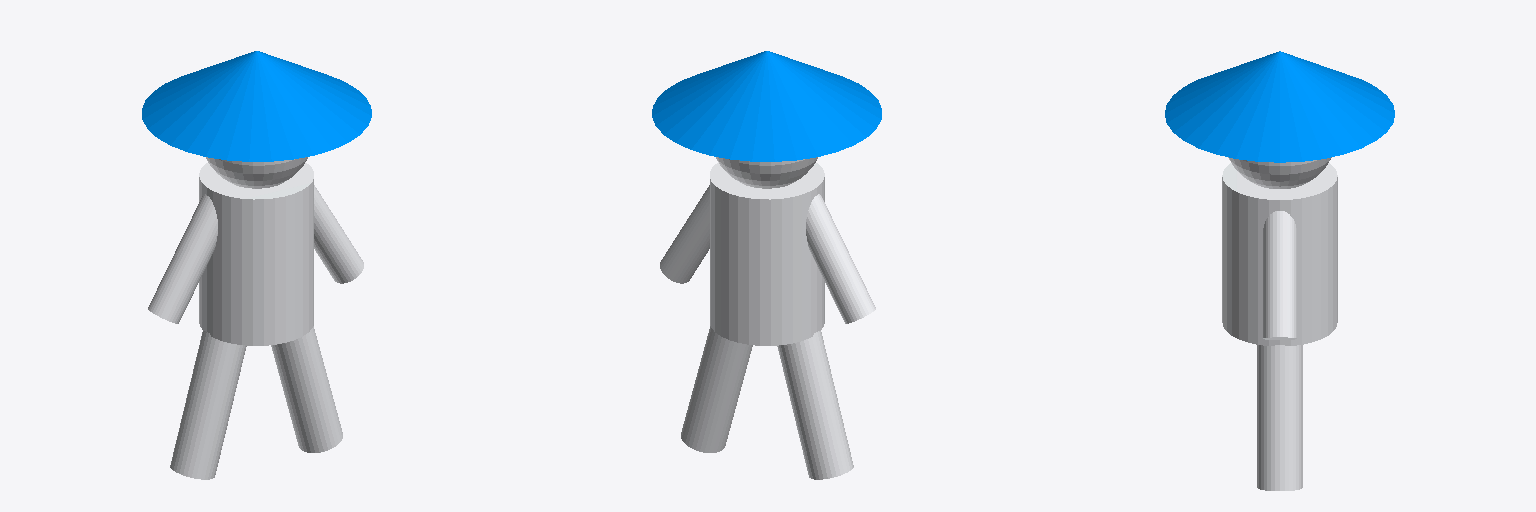
3 views of the same model, side by side, from view 1: azimuth 30°, elevation 25°; view 2: azimuth 150°, elevation 25°; view 3: azimuth 270°, elevation 25° (orthographic).
Visible parts, largest first — view 1: Cone, Cylinder, Cylinder.001, Cylinder.002, Cylinder.003, Cylinder.004, Sphere; view 2: Cone, Cylinder, Cylinder.001, Cylinder.002, Cylinder.003, Cylinder.004, Sphere; view 3: Cone, Cylinder, Cylinder.002, Cylinder.004, Sphere.
Part boxes in pixels (bbox=[...]): Cone: bbox=[142, 51, 371, 161]; Cylinder: bbox=[199, 162, 313, 345]; Cylinder.001: bbox=[170, 331, 246, 479]; Cylinder.002: bbox=[271, 326, 342, 452]; Cylinder.003: bbox=[148, 194, 217, 323]; Cylinder.004: bbox=[314, 185, 363, 283]; Sphere: bbox=[206, 157, 307, 188]; Cone: bbox=[652, 51, 881, 161]; Cylinder: bbox=[710, 162, 824, 345]; Cylinder.001: bbox=[777, 331, 853, 479]; Cylinder.002: bbox=[681, 326, 752, 452]; Cylinder.003: bbox=[806, 194, 875, 323]; Cylinder.004: bbox=[660, 185, 709, 283]; Sphere: bbox=[716, 157, 817, 188]; Cone: bbox=[1165, 51, 1394, 162]; Cylinder: bbox=[1222, 163, 1337, 345]; Cylinder.002: bbox=[1257, 345, 1302, 490]; Cylinder.004: bbox=[1263, 211, 1296, 339]; Sphere: bbox=[1228, 157, 1331, 188].
Bounding box in the file's own units: 1.27 × 2.36 × 1.2.
Materials: 2 (2 with a texture image).